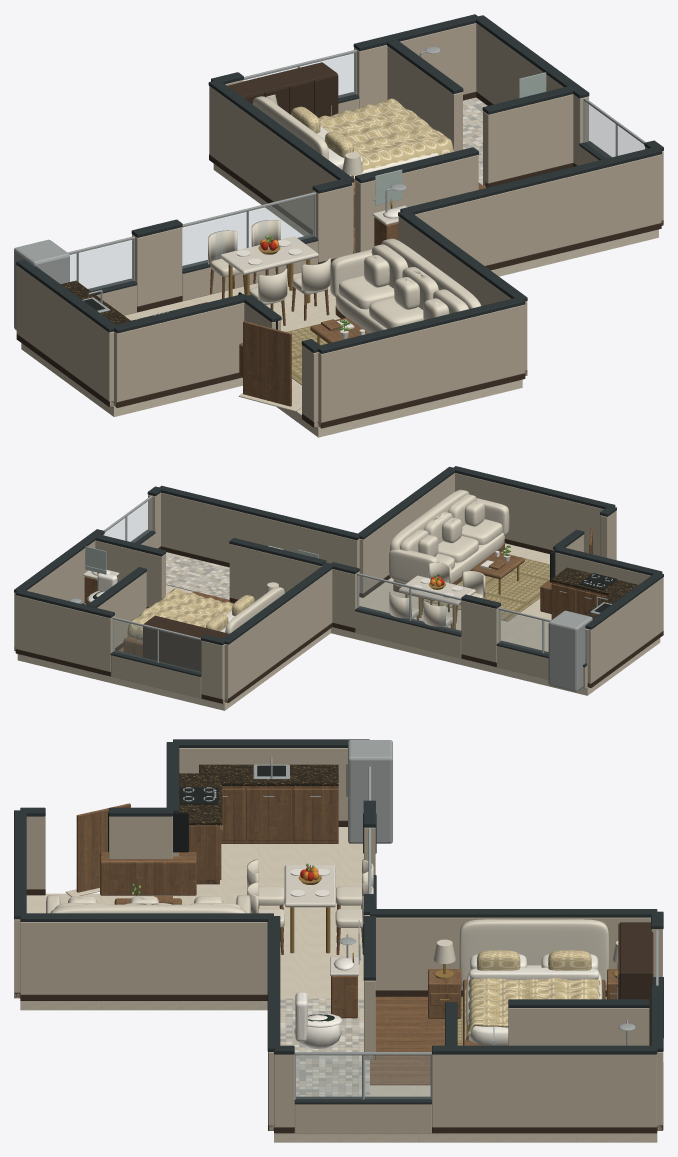
File: aristo-09.glb
3 views of the same model, one above another, from view 1: azimuth 30°, elevation 25°; view 2: azimuth 150°, elevation 25°; view 3: azimuth 270°, elevation 25° (orthographic). The views are drawn at different scales.
Parts seen in each view (by area): view 1: Ivory masonry.007, Ivory masonry.009, Apartment foundation, Ivory masonry.012, Ivory masonry.002, Ivory masonry.013, Ivory masonry.015, Soft jacquard duvet with folds.003, Ivory masonry.004, Ivory masonry.016, Cutaway window glazing.002, Ivory masonry.005 (+50 smaller); view 2: Apartment foundation, Ivory masonry.007, Ivory masonry.002, Ivory masonry.009, Ivory masonry.004, Ivory masonry.013, Ivory masonry.016, Ivory masonry.008, Brushed refrigerator, Cutaway window glazing, Dark fitted wardrobe, Cutaway window glazing.002 (+57 smaller); view 3: Apartment foundation, Ivory masonry.008, Ivory masonry.005, Ivory masonry.002, Padded headboard.003, Cutaway window glazing.003, Ivory masonry.014, Bedroom 1 · timber floor.001, Window sill.003, Soft jacquard duvet with folds.003, Brushed refrigerator, Walnut television console (+44 smaller).
Part boxes in pixels (bbox=[...]): Ivory masonry.007: bbox=[415, 154, 661, 265]; Ivory masonry.009: bbox=[318, 304, 525, 427]; Apartment foundation: bbox=[21, 97, 658, 437]; Ivory masonry.012: bbox=[114, 302, 244, 407]; Ivory masonry.002: bbox=[209, 86, 353, 253]; Ivory masonry.013: bbox=[16, 265, 113, 406]; Ivory masonry.015: bbox=[483, 94, 573, 187]; Soft jacquard duvet with folds.003: bbox=[318, 98, 453, 170]; Ivory masonry.004: bbox=[354, 23, 476, 108]; Ivory masonry.016: bbox=[355, 155, 478, 252]; Cutaway window glazing.002: bbox=[182, 196, 314, 268]; Ivory masonry.005: bbox=[476, 23, 588, 165]; Apartment foundation: bbox=[17, 543, 660, 710]; Ivory masonry.007: bbox=[161, 492, 359, 592]; Ivory masonry.002: bbox=[224, 569, 332, 702]; Ivory masonry.009: bbox=[455, 473, 603, 555]; Ivory masonry.004: bbox=[16, 595, 114, 671]; Ivory masonry.013: bbox=[585, 577, 663, 686]; Ivory masonry.016: bbox=[229, 544, 325, 601]; Ivory masonry.008: bbox=[359, 473, 454, 593]; Brushed refrigerator: bbox=[548, 610, 592, 691]; Cutaway window glazing: bbox=[114, 620, 200, 672]; Dark fitted wardrobe: bbox=[143, 615, 229, 671]; Cutaway window glazing.002: bbox=[358, 576, 460, 632]; Apartment foundation: bbox=[20, 827, 657, 1142]; Ivory masonry.008: bbox=[20, 922, 267, 994]; Ivory masonry.005: bbox=[432, 1054, 657, 1127]; Ivory masonry.002: bbox=[375, 917, 650, 990]; Padded headboard.003: bbox=[459, 919, 608, 986]; Cutaway window glazing.003: bbox=[296, 1056, 430, 1098]; Ivory masonry.014: bbox=[508, 1008, 649, 1045]; Bedroom 1 · timber floor.001: bbox=[370, 996, 444, 1085]; Window sill.003: bbox=[294, 1104, 431, 1133]; Soft jacquard duvet with folds.003: bbox=[465, 977, 603, 1041]; Brushed refrigerator: bbox=[348, 740, 392, 843]; Walnut television console: bbox=[100, 852, 196, 895].
Bounding box in the file's own units: 9.31 × 1.37 × 8.2.
24 materials, 6 textured.
